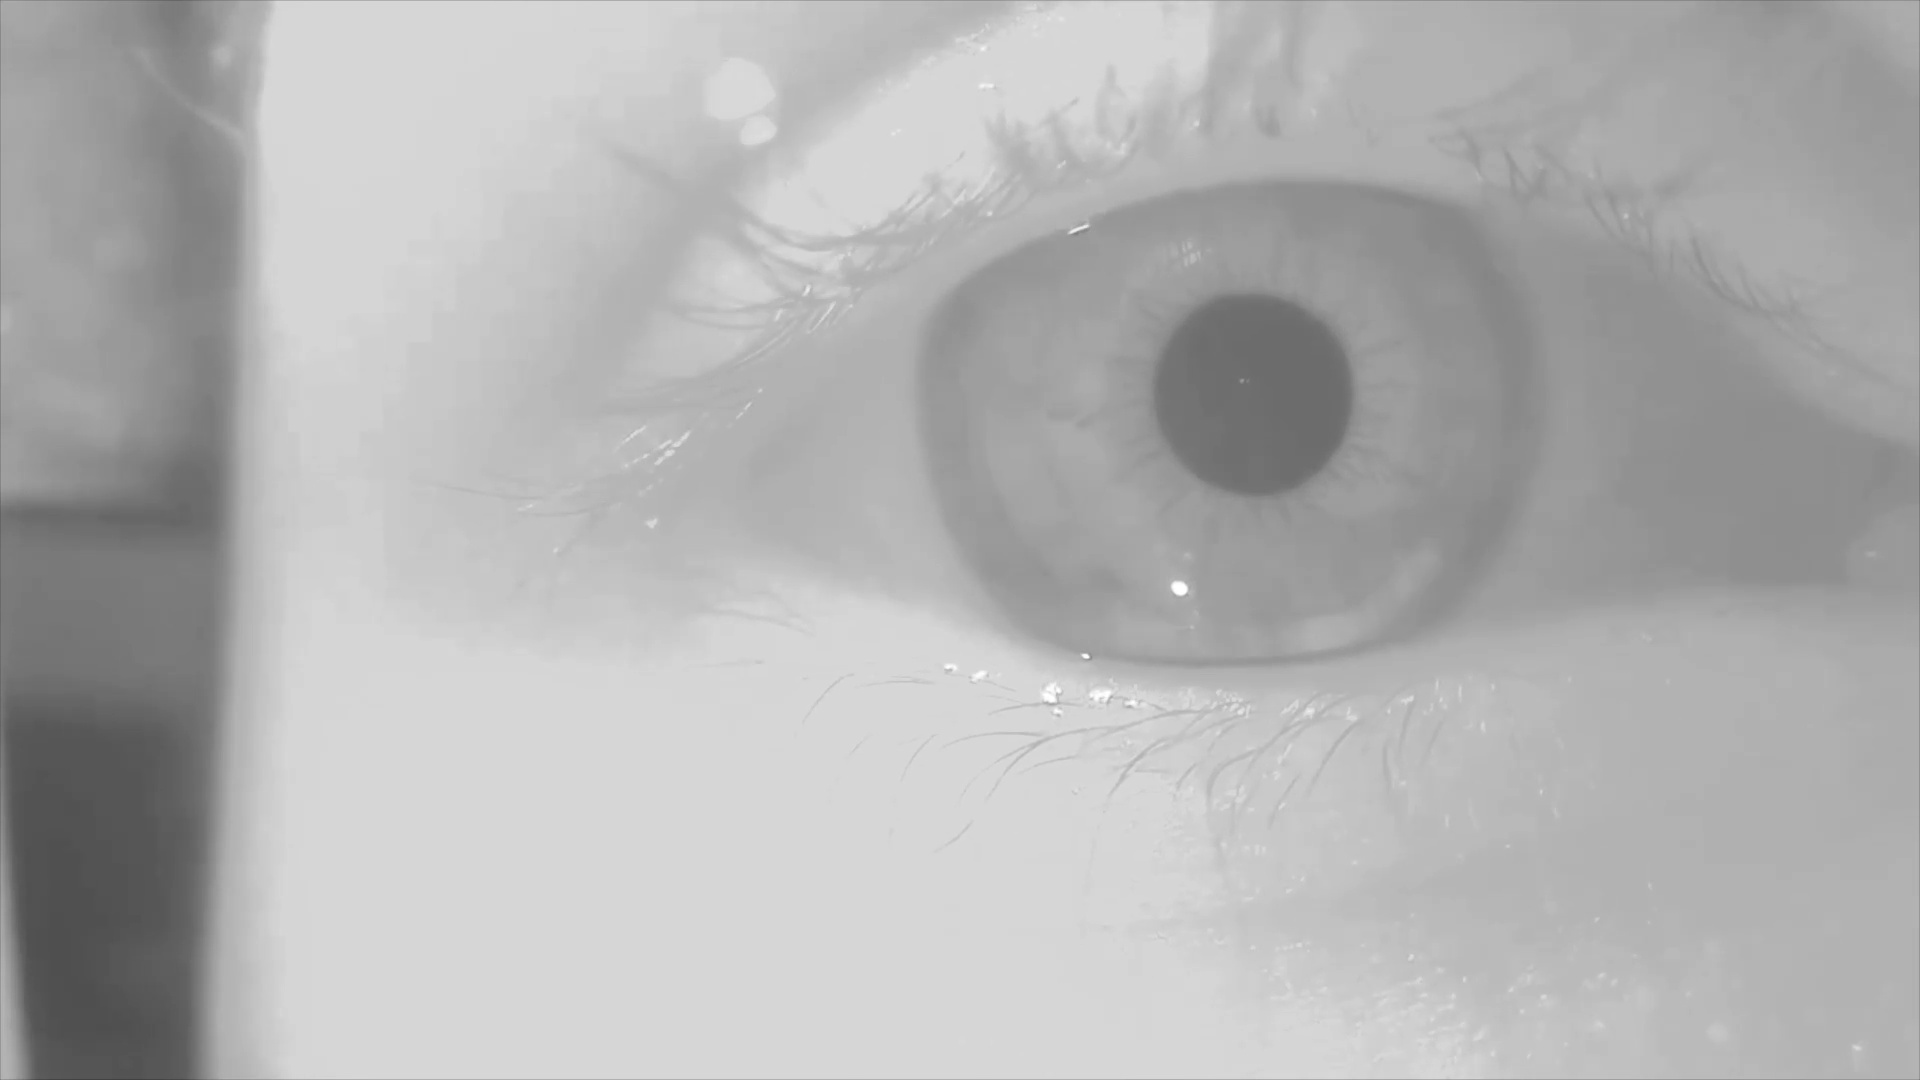pupil: (1156, 293, 1354, 493)
